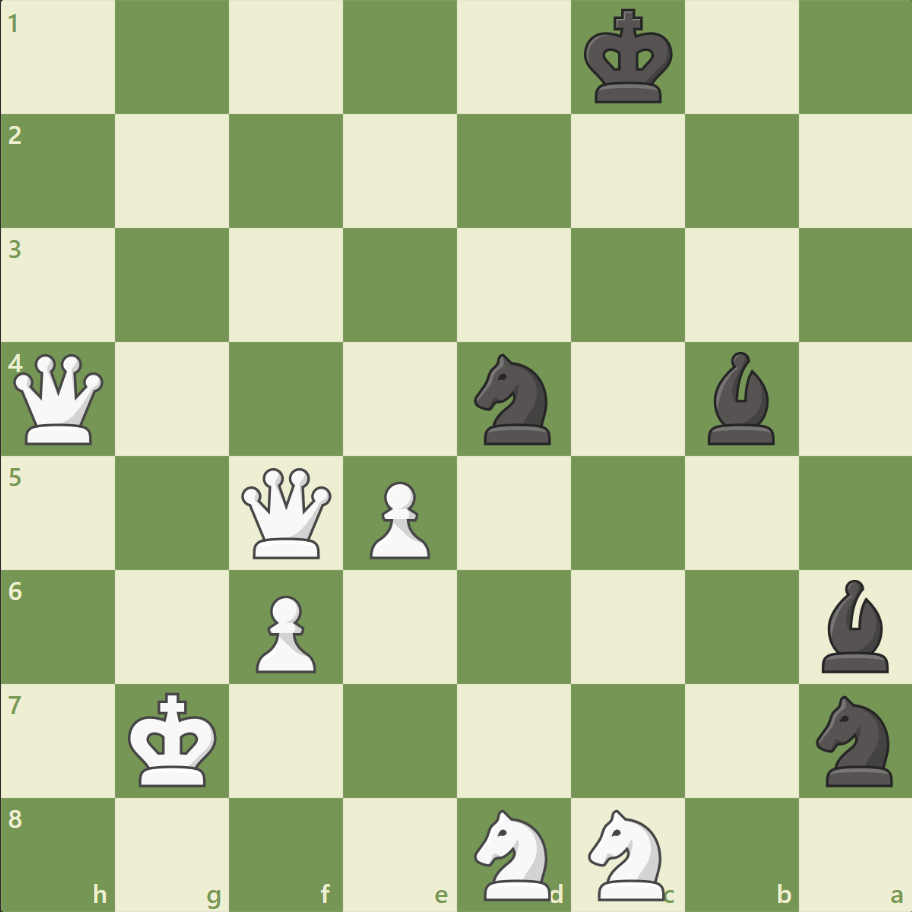K: (124, 685, 224, 793)
N: (579, 802, 676, 904), (465, 802, 562, 904)
P: (247, 586, 322, 677), (361, 473, 435, 564)
Q: (10, 349, 109, 449), (237, 463, 336, 562)
b: (812, 574, 896, 676), (698, 347, 782, 449)
k: (579, 4, 679, 112)
n: (806, 688, 903, 791), (465, 348, 562, 450)
